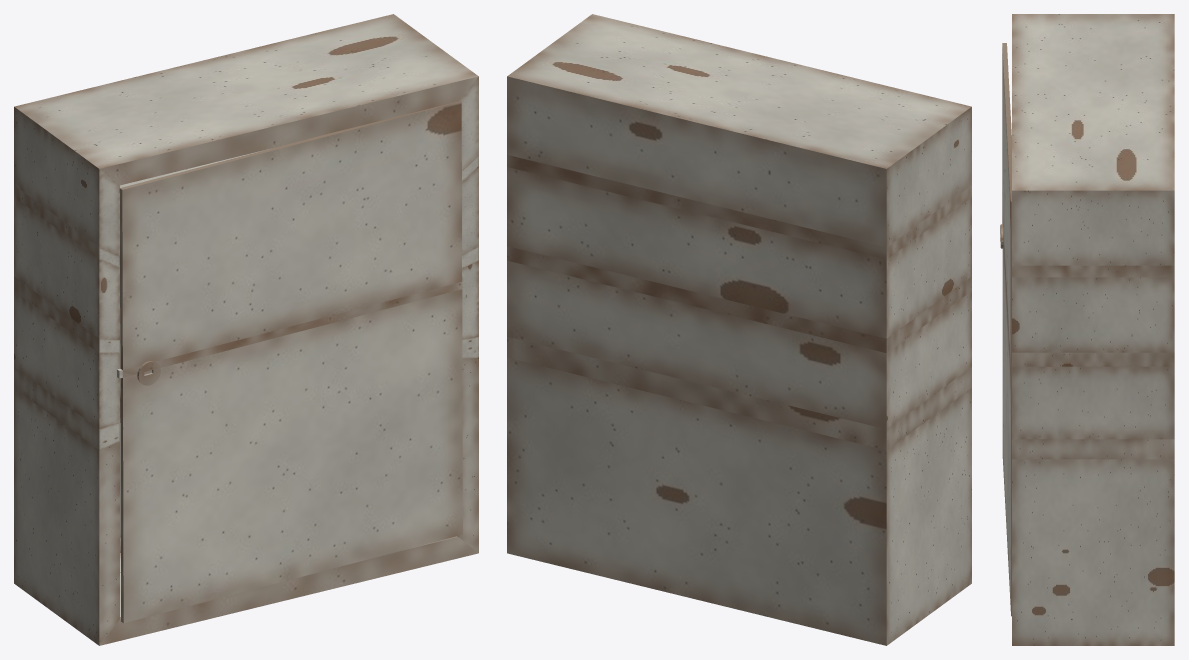
File: medcab.glb
3 renders of one model, left to right at view 1: azimuth 30°, elevation 25°; view 2: azimuth 150°, elevation 25°; view 3: azimuth 270°, elevation 25°, orthographic. The views are drawn at different scales.
Visible parts, largest first — view 1: door, body; view 2: body; view 3: body, door.
Boxes of the visible parts, x1,y1,x2,y2 form: door: (117,101,462,623); body: (14,14,478,645); body: (507,14,971,645); body: (1012,14,1174,645); door: (1000,43,1011,616).
Size of the model in its own units: 0.6 by 0.7205 by 0.25.
1 material, 1 textured.
